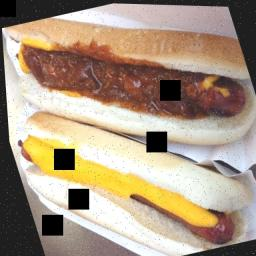hotdog: (126, 170, 238, 256), (188, 72, 255, 124), (8, 136, 38, 169)
